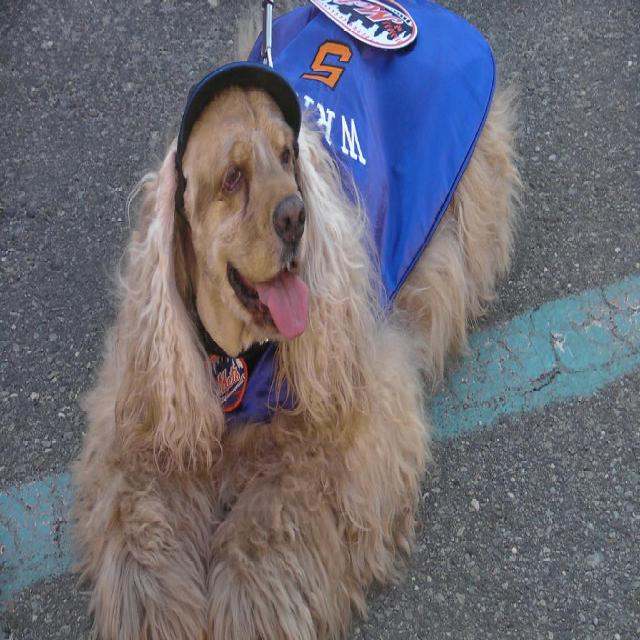Dog: (65, 0, 528, 638)
